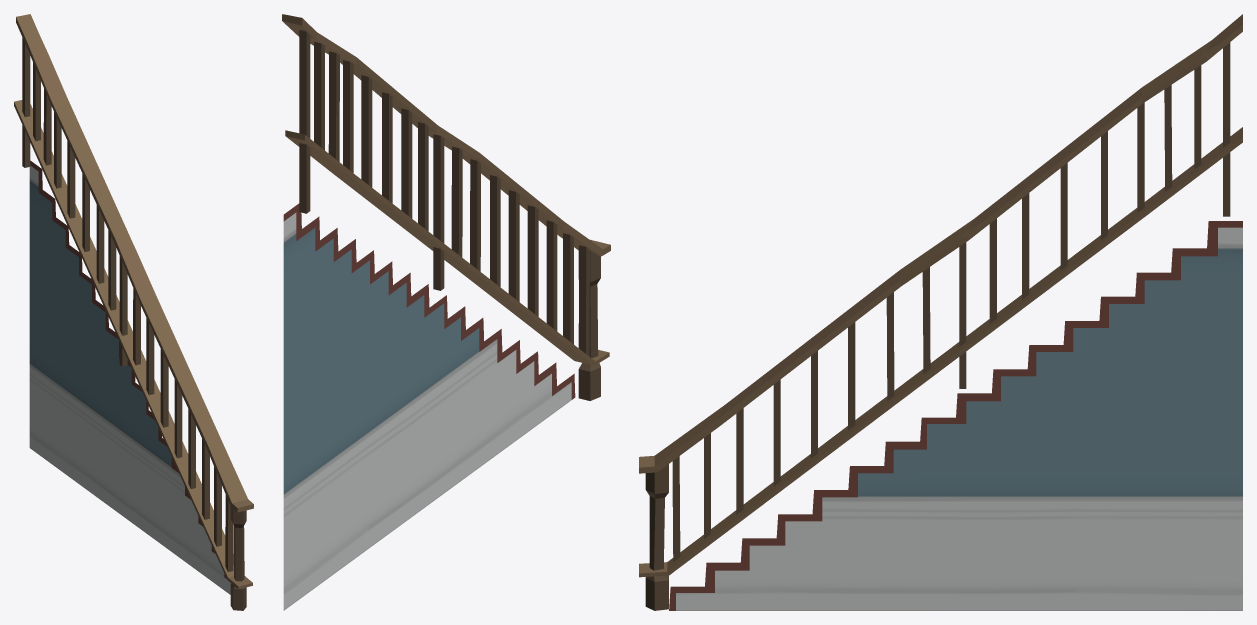
File: SM_Bld_House_Interior_StairsRail_Right_01.fbx
3 views of the same model, side by side, from view 1: azimuth 30°, elevation 25°; view 2: azimuth 150°, elevation 25°; view 3: azimuth 270°, elevation 25° (orthographic). The views are drawn at different scales.
Parts seen in each view (by area): view 1: SM_Bld_House_Interior_StairsRail_Right_01; view 2: SM_Bld_House_Interior_StairsRail_Right_01; view 3: SM_Bld_House_Interior_StairsRail_Right_01.
Boxes of the visible parts, x1,y1,x2,y2 form: SM_Bld_House_Interior_StairsRail_Right_01: (14,14,253,610); SM_Bld_House_Interior_StairsRail_Right_01: (282,14,610,610); SM_Bld_House_Interior_StairsRail_Right_01: (639,14,1242,610).
Bounding box in the file's own units: 19.1 × 452 × 421.
